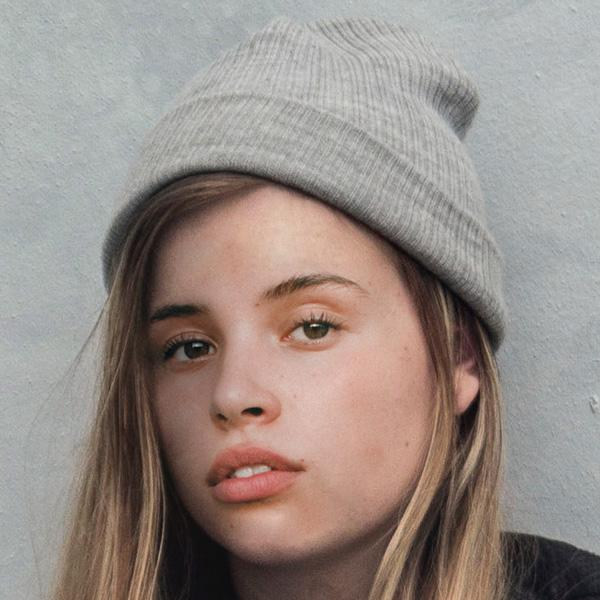Eyes: (272, 301, 363, 354), (155, 326, 225, 375)
